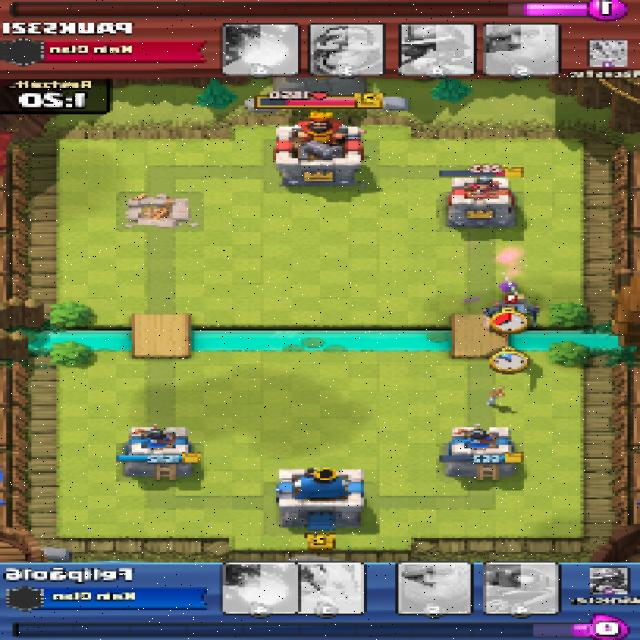Enemy-MiniPEKKA: (486, 302, 536, 327)
